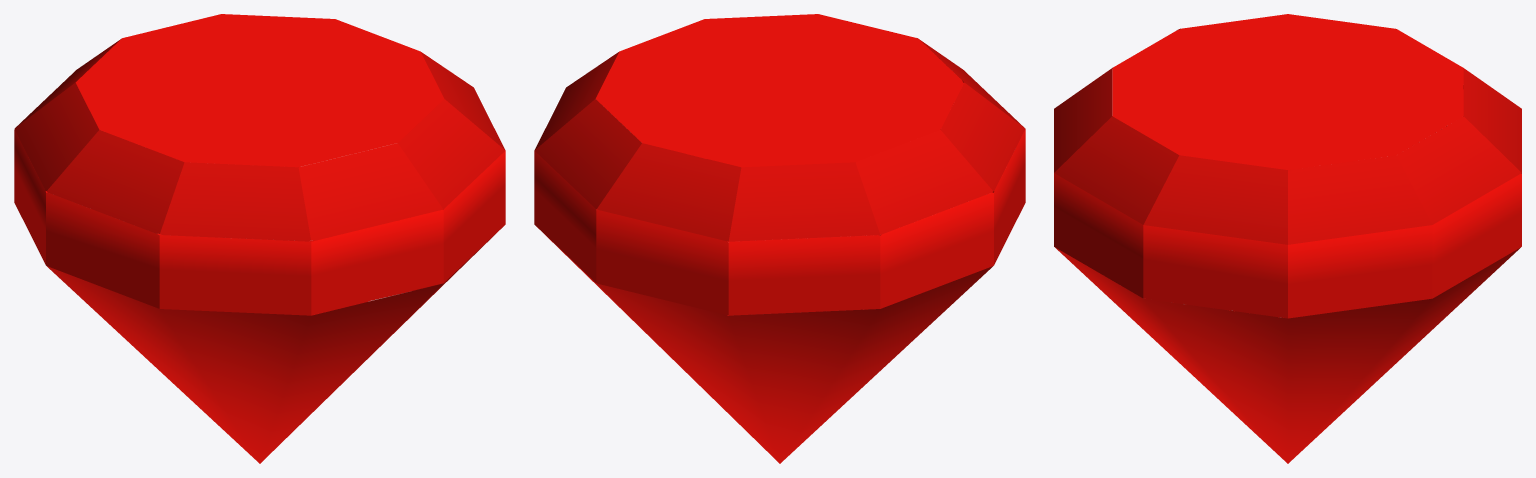
The model's file is gem_red.obj.
The picture shows the model from 3 angles, left to right: view 1: azimuth 30°, elevation 25°; view 2: azimuth 150°, elevation 25°; view 3: azimuth 270°, elevation 25°; orthographic projection.
Visible parts, largest first — view 1: pCylinder2; view 2: pCylinder2; view 3: pCylinder2.
Boxes of the visible parts, <box> form: pCylinder2: <box>14,14,505,463</box>; pCylinder2: <box>534,14,1025,463</box>; pCylinder2: <box>1054,14,1521,463</box>.
Size of the model in its own units: 1 by 0.834 by 0.9511.
